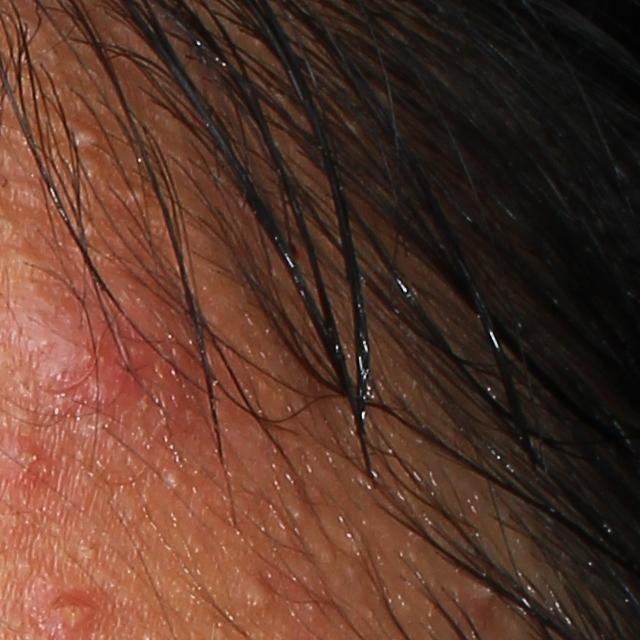comedo: (243, 573, 279, 610), (165, 466, 188, 495)
nodule: (6, 233, 213, 446)
